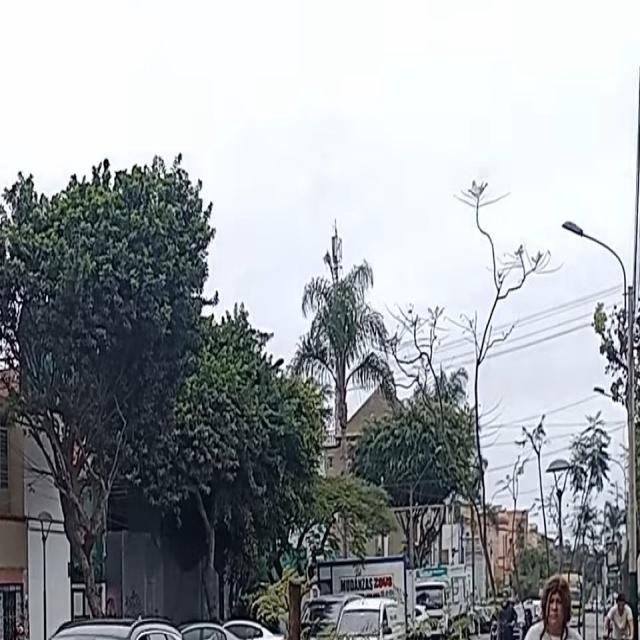car: (0, 612, 203, 640), (329, 596, 405, 640)
